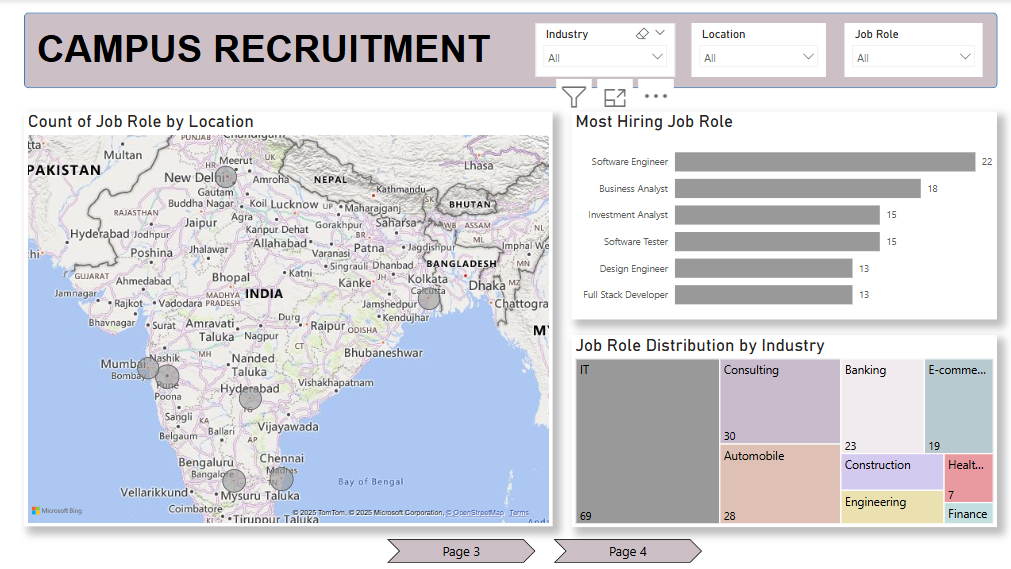

What the dashboard file says about the page in this screenshot:
{"tool":"powerbi","page":{"name":" Job Role Distribution","canvas":[1280,720],"ordinal":1},"visuals":[{"type":"shape","box":[33.3,16.7,1226.5,95.4],"z":0},{"type":"textbox","box":[45.4,17,595.3,81.3],"z":1000},{"type":"slicer","fields":{"Values":["campus_recruitment.Job Role"]},"box":[1067.5,30.3,174.1,68.1],"z":2000},{"type":"slicer","fields":{"Values":["campus_recruitment.Location"]},"box":[875.2,30.3,169.6,68.1],"z":3000},{"type":"slicer","fields":{"Values":["campus_recruitment.Industry"]},"box":[678.4,30.3,175.6,68.1],"z":4000},{"type":"shape","box":[491.3,680.3,187.1,30.2],"z":5000},{"type":"shape","box":[701.1,680.3,187.1,30.2],"z":7000},{"type":"map","fields":{"Size":["CountNonNull(campus_recruitment.Job Role)"],"Category":["campus_recruitment.Location","campus_recruitment.Job Role"]},"box":[33.3,142.3,666.3,522.4],"z":8000},{"type":"treemap","title":"Job Role Distribution by Industry","fields":{"Group":["extended_campus_recruitment.Industry"],"Values":["CountNonNull(campus_recruitment.Job Role)"]},"box":[723.8,422.5,536,242.3],"z":9000},{"type":"barChart","title":"Most Hiring Job Role","fields":{"Category":["campus_recruitment.Job Role"],"Y":["CountNonNull(campus_recruitment.Company Name)"]},"box":[723.8,142.3,536,262],"z":10000}]}

Visuals, with their boxes in screenshot pixels (x1, y1, x2, y2), scaled from the page's 1280x720 canvas onto the 1011x569 screenshot:
shape: 26/13/995/89
textbox: 36/13/506/78
slicer - campus_recruitment.Job Role: 843/24/981/78
slicer - campus_recruitment.Location: 691/24/825/78
slicer - campus_recruitment.Industry: 536/24/675/78
shape: 388/538/536/561
shape: 554/538/702/561
map - CountNonNull(campus_recruitment.Job Role) x campus_recruitment.Location: 26/112/553/525
"Job Role Distribution by Industry" treemap: 572/334/995/525
"Most Hiring Job Role" barChart: 572/112/995/320
